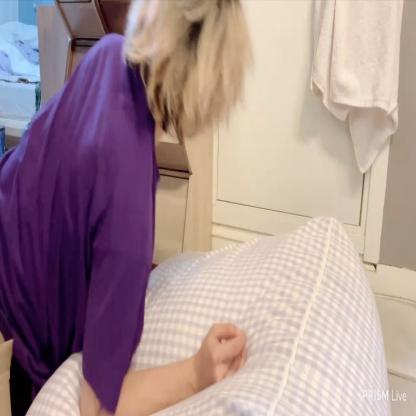streamer: (0, 0, 257, 416)
